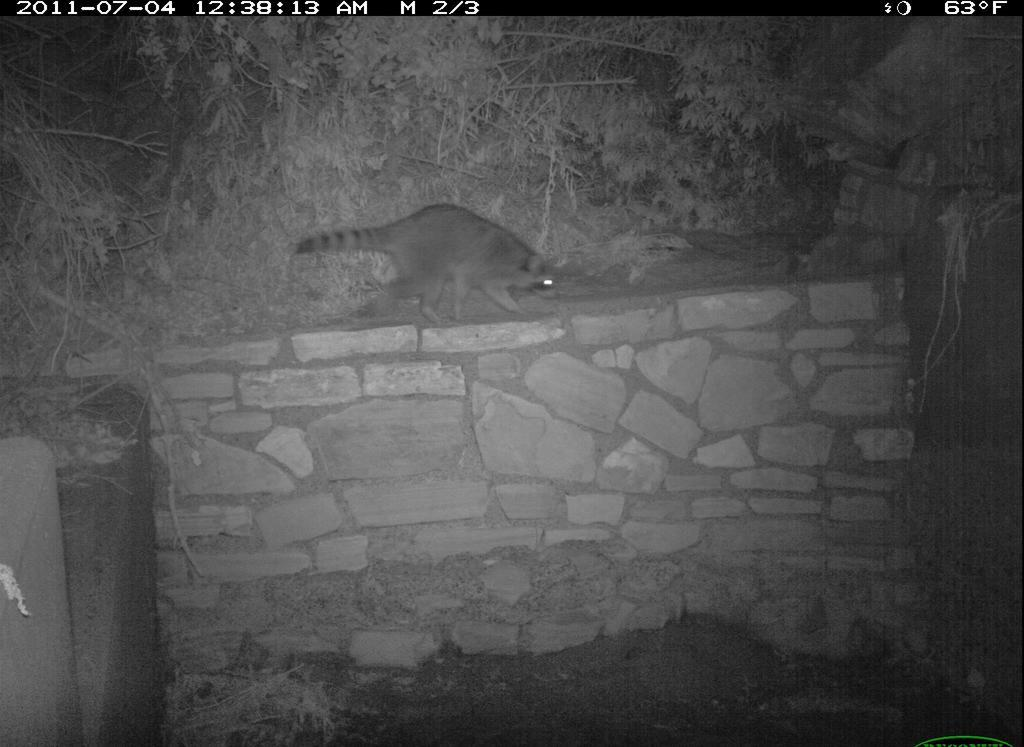raccoon: (290, 201, 571, 331)
